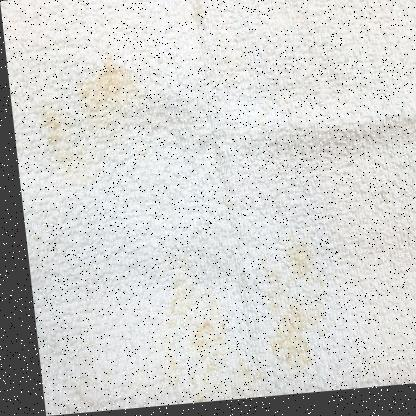spot: (110, 224, 325, 404), (136, 243, 312, 376), (12, 53, 152, 187), (156, 270, 290, 356), (27, 61, 144, 157), (66, 75, 133, 122), (231, 36, 235, 40)
